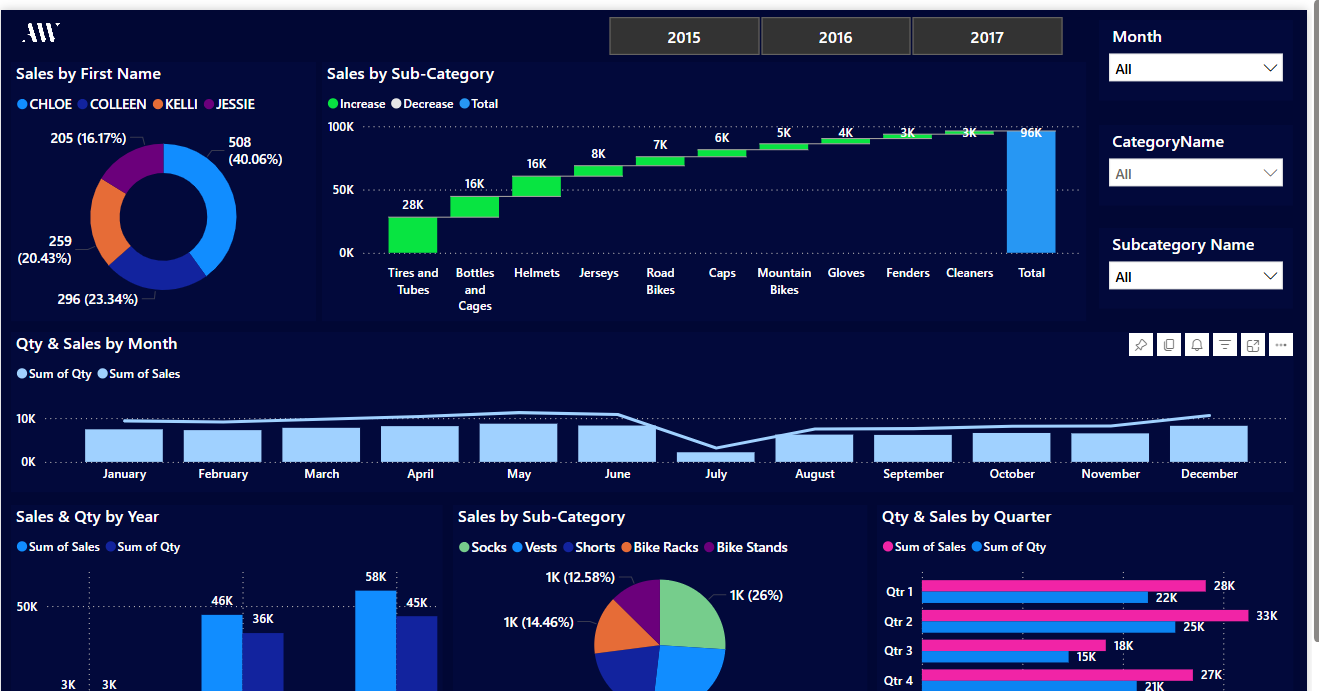

Layout of this report page (visuals, bound fields, positions):
{"tool":"powerbi","page":{"name":"Static Page","canvas":[1280,720],"ordinal":2},"visuals":[{"type":"slicer","fields":{"Values":["Product_Categories.CategoryName"]},"box":[1076.5,213.6,190.5,79.4],"z":0},{"type":"clusteredBarChart","title":"Qty & Sales by Quarter","fields":{"Category":["Calendar.Date.Variation.Date Hierarchy.Quarter"],"Y":["Sales.Sum_of_Sales","Sales.Sum_of_Quantity"]},"box":[858.6,484.9,408.4,225.1],"z":1000},{"type":"pieChart","title":"Sales by Sub-Category","fields":{"Y":["Sales.Sum_of_Sales"],"Category":["Product_Subcategories.SubcategoryName"]},"box":[443,484.9,405.5,225.1],"z":2000},{"type":"waterfallChart","title":"Sales by Sub-Category","fields":{"Category":["Product_Subcategories.SubcategoryName"],"Y":["Sales.Sum_of_Sales"]},"box":[314.6,50.5,749,254],"z":3000},{"type":"donutChart","title":"Sales by First Name","fields":{"Y":["Sales.Sum_of_Sales"],"Category":["Customers.FirstName"]},"box":[10.1,50.5,298.7,254],"z":4000},{"type":"clusteredColumnChart","title":"Sales & Qty by Year","fields":{"Y":["Sales.Sum_of_Sales","Sales.Sum_of_Quantity"],"Category":["Calendar.Date.Variation.Date Hierarchy.Year"]},"box":[10.1,484.9,422.8,225.1],"z":5000},{"type":"lineStackedColumnComboChart","title":"Qty & Sales by Month","fields":{"Y":["Sales.Sum_of_Quantity"],"Category":["Calendar.Date.Variation.Date Hierarchy.Month"],"Y2":["Sales.Sum_of_Sales"]},"box":[10.1,316,1256.9,157.3],"z":6000},{"type":"slicer","fields":{"Values":["Calendar.Date.Variation.Date Hierarchy.Year"]},"box":[570,0,493.5,50.5],"z":7000},{"type":"slicer","fields":{"Values":["Calendar.Date.Variation.Date Hierarchy.Month"]},"box":[1076.5,10.1,190.5,79.4],"z":8000},{"type":"slicer","fields":{"Values":["Product_Categories.CategoryName"]},"box":[1076.5,112.6,190.5,79.4],"z":9000},{"type":"image","box":[0,0,78.3,50],"z":9001}]}

Visuals, with their boxes on the page's 1280x720 design canvas (x1, y1, x2, y2). These are canvas units, not pixel positions in the 1319x691 screenshot, which may show the page scaled, cropped or inside an application window:
slicer - Product_Categories.CategoryName: <region>1076, 214, 1267, 293</region>
"Qty & Sales by Quarter" clusteredBarChart: <region>859, 485, 1267, 710</region>
"Sales by Sub-Category" pieChart: <region>443, 485, 848, 710</region>
"Sales by Sub-Category" waterfallChart: <region>315, 50, 1064, 304</region>
"Sales by First Name" donutChart: <region>10, 50, 309, 304</region>
"Sales & Qty by Year" clusteredColumnChart: <region>10, 485, 433, 710</region>
"Qty & Sales by Month" lineStackedColumnComboChart: <region>10, 316, 1267, 473</region>
slicer - Calendar.Date.Variation.Date Hierarchy.Year: <region>570, 0, 1064, 50</region>
slicer - Calendar.Date.Variation.Date Hierarchy.Month: <region>1076, 10, 1267, 90</region>
slicer - Product_Categories.CategoryName: <region>1076, 113, 1267, 192</region>
image: <region>0, 0, 78, 50</region>
